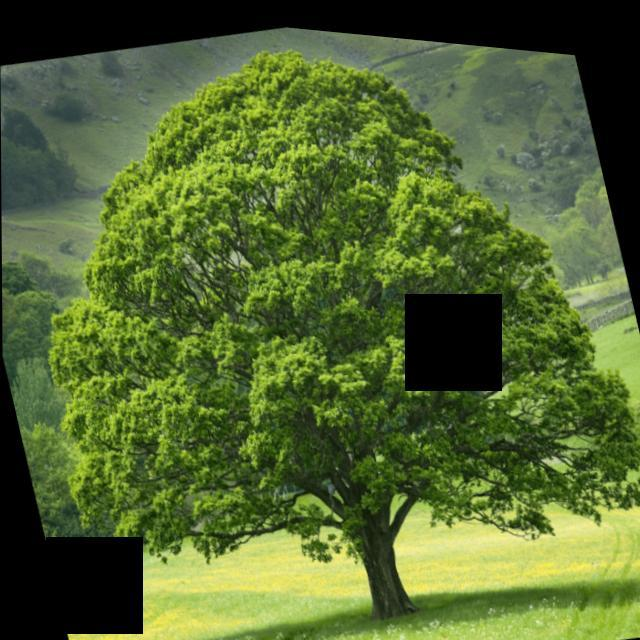Tree: (1, 1, 640, 640), (4, 338, 143, 560), (3, 228, 112, 481), (18, 398, 156, 571), (2, 91, 81, 228), (546, 190, 621, 280), (570, 158, 626, 265), (547, 196, 594, 285), (616, 377, 640, 455), (47, 83, 89, 125), (96, 47, 126, 78)
